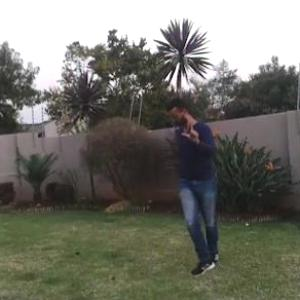land_hand: (181, 118, 201, 146)
